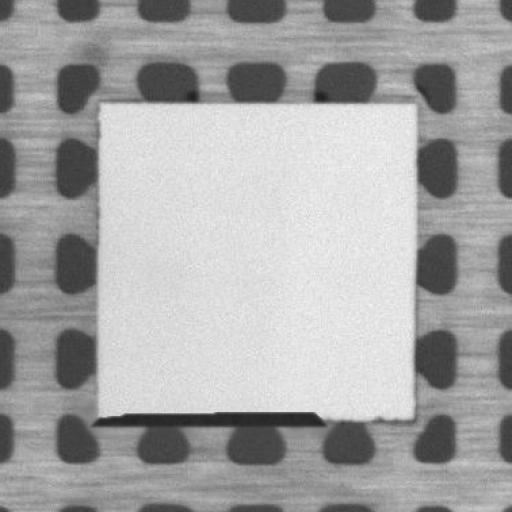DIE_BROKEN: (91, 405, 329, 427)
